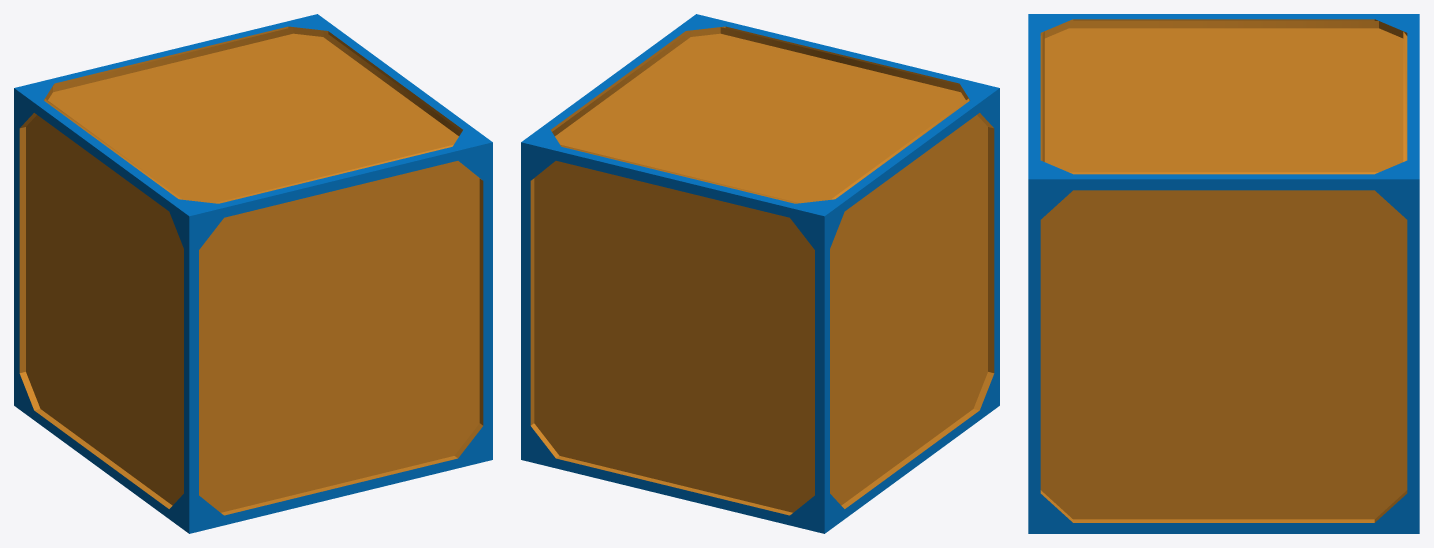
The model's file is Cube_Dynamique.FBX.
The picture shows the model from 3 angles, left to right: view 1: azimuth 30°, elevation 25°; view 2: azimuth 150°, elevation 25°; view 3: azimuth 270°, elevation 25°; orthographic projection. The views are drawn at different scales.
Parts seen in each view (by area): view 1: Mur_053; view 2: Mur_053; view 3: Mur_053.
Part boxes in pixels (left/top/right/bottom): Mur_053: left=14, top=14, right=492, bottom=533; Mur_053: left=521, top=14, right=999, bottom=533; Mur_053: left=1028, top=14, right=1419, bottom=533.
Bounding box in the file's own units: 48 × 48 × 48.
